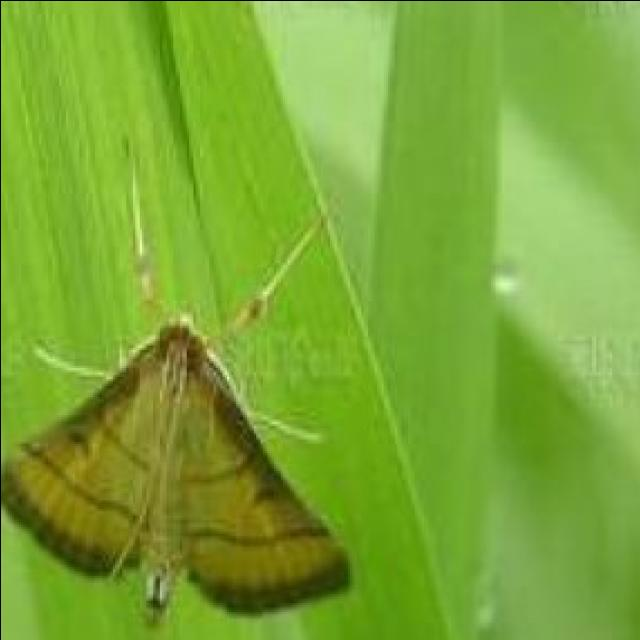rice leaf roller: (0, 175, 345, 611)
